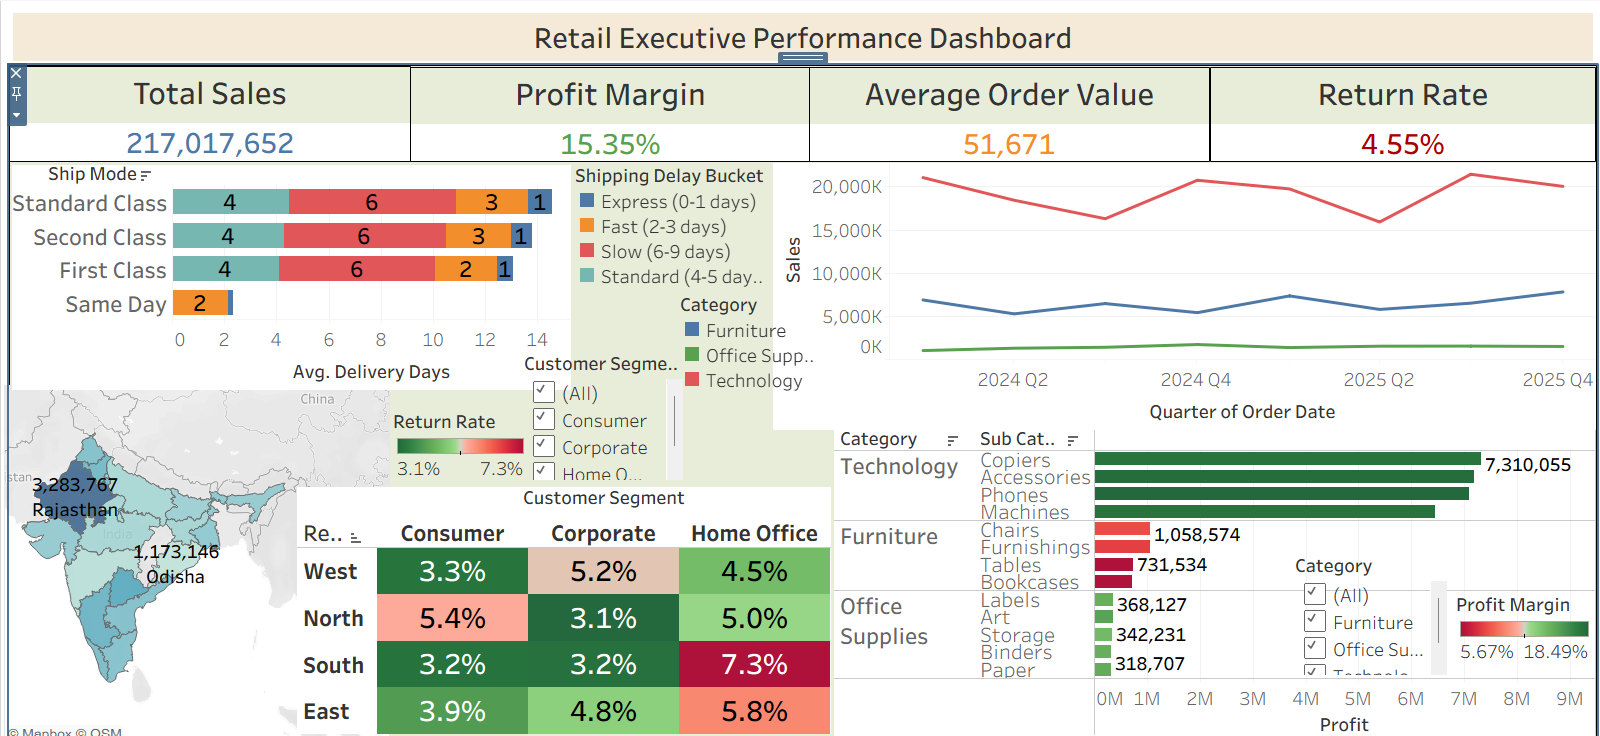

The dashboard page shown, as its layout file describes it:
{"tool":"tableau","page":{"name":"Executive Dashboard","canvas":[1000,1000],"units":"permille","ordinal":0},"visuals":[{"type":"title","box":[4.9,10.7,990.3,75.1]},{"type":"worksheet","title":"Total Sales","mark":"Automatic","box":[4.9,87.1,250.5,128.7]},{"type":"worksheet","title":"Profit Margin","mark":"Automatic","box":[254.7,88.5,249.8,127.4]},{"type":"worksheet","title":"Average Order Value","mark":"Automatic","box":[504,88.5,249.8,127.4]},{"type":"worksheet","title":"Return Rate","mark":"Automatic","box":[753.8,88.5,240.7,127.4]},{"type":"legend","title":"Shipping performance view","param":"[federated.1ka8ws11vcktl11bjjryb10ol7lc].[none:Calculation_2052805347725316:nk]","box":[358.1,215.8,121.2,168.9]},{"type":"worksheet","title":"Quarterly Sales trend view","mark":"Automatic","rows":["sales"],"cols":["order_date"],"box":[481.4,217.2,513.1,357.9]},{"type":"worksheet","title":"Shipping performance view","mark":"Automatic","rows":["ship_mode"],"cols":["delivery_days"],"box":[6.7,219.8,348.4,301.6]},{"type":"legend","title":"Quarterly Sales trend view","param":"[federated.1ka8ws11vcktl11bjjryb10ol7lc].[none:category:nk]","box":[423.3,388.7,87.1,135.4]},{"type":"filter","title":"Return analysis view","param":"[federated.1ka8ws11vcktl11bjjryb10ol7lc].[none:customer_segment:nk]","box":[325.8,467.8,99.3,174.3]},{"type":"worksheet","title":"Regional performance view","mark":"Automatic","box":[1.8,514.8,240.6,482.6]},{"type":"legend","title":"Return analysis view","param":"[federated.1ka8ws11vcktl11bjjryb10ol7lc].[usr:Calculation_2052805347319811:qk]","box":[244.2,545.6,84,101.9]},{"type":"worksheet","title":"Category profitability view","mark":"Automatic","rows":["category","sub_category"],"cols":["profit"],"box":[519.5,575.1,475,411.5]},{"type":"worksheet","title":"Return analysis view","mark":"Square","rows":["region"],"cols":["customer_segment"],"box":[184.5,651.5,333.1,332.4]},{"type":"filter","title":"Quarterly Sales trend view","param":"[federated.1ka8ws11vcktl11bjjryb10ol7lc].[none:category:nk]","box":[806.9,738.6,95,164.9]},{"type":"legend","title":"Category profitability view","param":"[federated.1ka8ws11vcktl11bjjryb10ol7lc].[usr:Calculation_2052805340348416:qk]","box":[906.8,790.9,85.3,134.1]}]}

Visuals, with their boxes on the dashboard's canvas, which has no fixed pixel size, in thousandths of its width and height (x1, y1, x2, y2). These are canvas units, not pixel positions in the 1600x736 screenshot, which may show the page scaled, cropped or inside an application window:
title: (5,11,995,86)
"Total Sales" worksheet: (5,87,255,216)
"Profit Margin" worksheet: (255,88,504,216)
"Average Order Value" worksheet: (504,88,754,216)
"Return Rate" worksheet: (754,88,994,216)
"Shipping performance view" legend: (358,216,479,385)
"Quarterly Sales trend view" worksheet: (481,217,994,575)
"Shipping performance view" worksheet: (7,220,355,521)
"Quarterly Sales trend view" legend: (423,389,510,524)
"Return analysis view" filter: (326,468,425,642)
"Regional performance view" worksheet: (2,515,242,997)
"Return analysis view" legend: (244,546,328,648)
"Category profitability view" worksheet: (520,575,994,987)
"Return analysis view" worksheet (Square marks): (184,652,518,984)
"Quarterly Sales trend view" filter: (807,739,902,904)
"Category profitability view" legend: (907,791,992,925)
